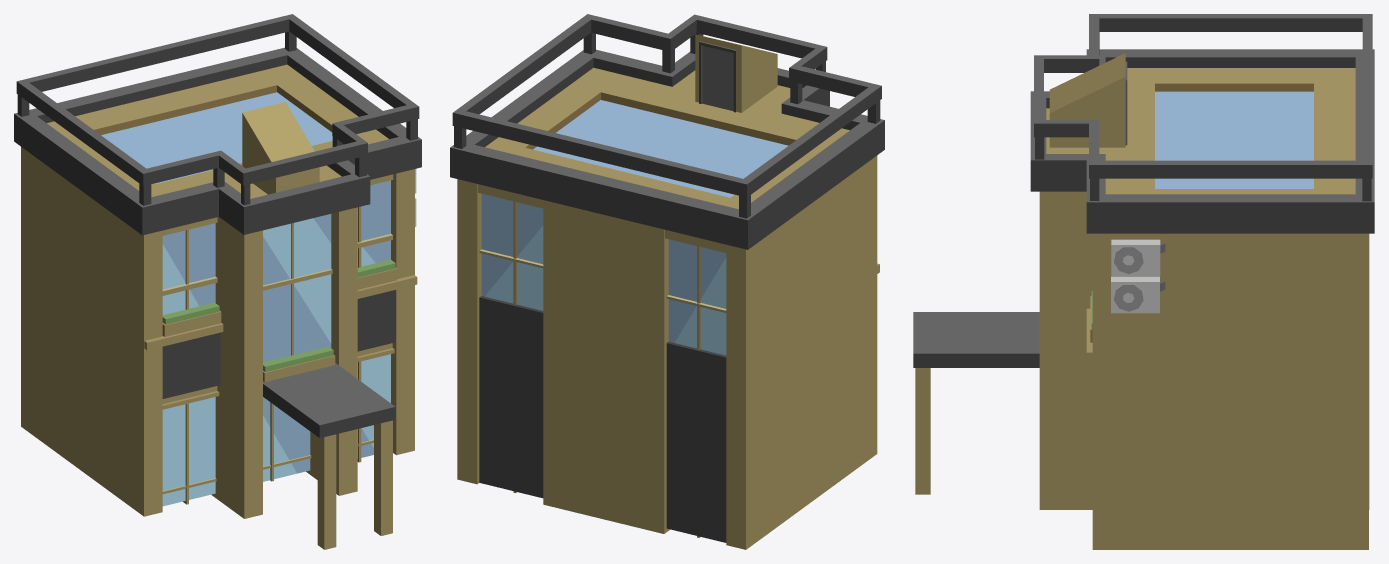
The model's file is hotel_002.glb.
3 renders of one model, left to right at view 1: azimuth 30°, elevation 25°; view 2: azimuth 150°, elevation 25°; view 3: azimuth 270°, elevation 25°, orthographic. The views are drawn at different scales.
Visible parts, largest first — view 1: hotel_002; view 2: hotel_002; view 3: hotel_002.
Boxes of the visible parts, box(x1,y1,x2,y2) form: hotel_002: box(14, 14, 421, 549); hotel_002: box(450, 14, 884, 549); hotel_002: box(913, 14, 1374, 549).
Size of the model in its own units: 6.1 by 7.55 by 7.61.
Materials: 1 (1 with a texture image).
